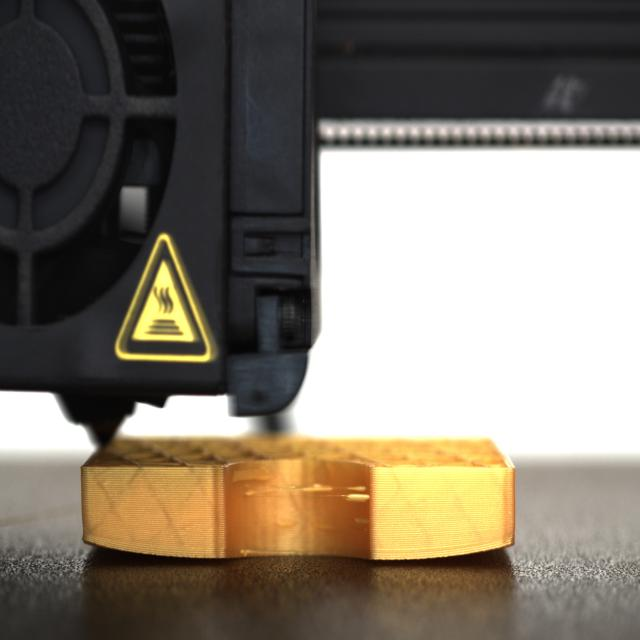Warping: (432, 532, 518, 566), (78, 529, 140, 561)
